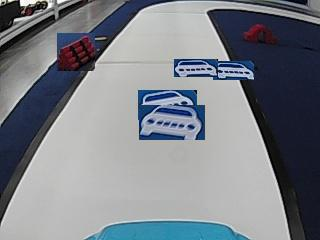bridge: (244, 23, 275, 42)
